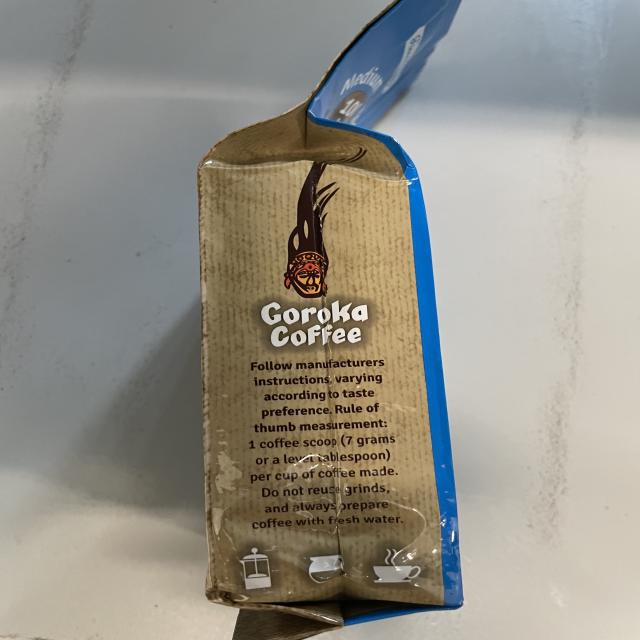object_name: (202, 106, 439, 606)
